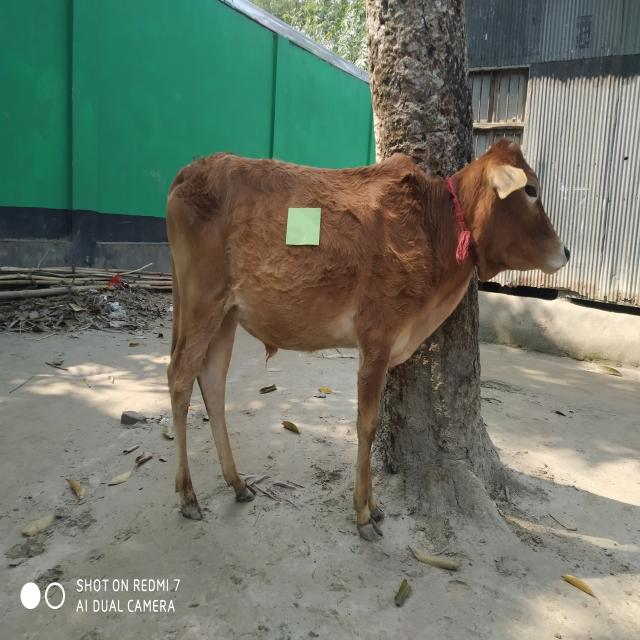badan_sapi: (174, 178, 400, 356)
sapi: (164, 132, 576, 552)
